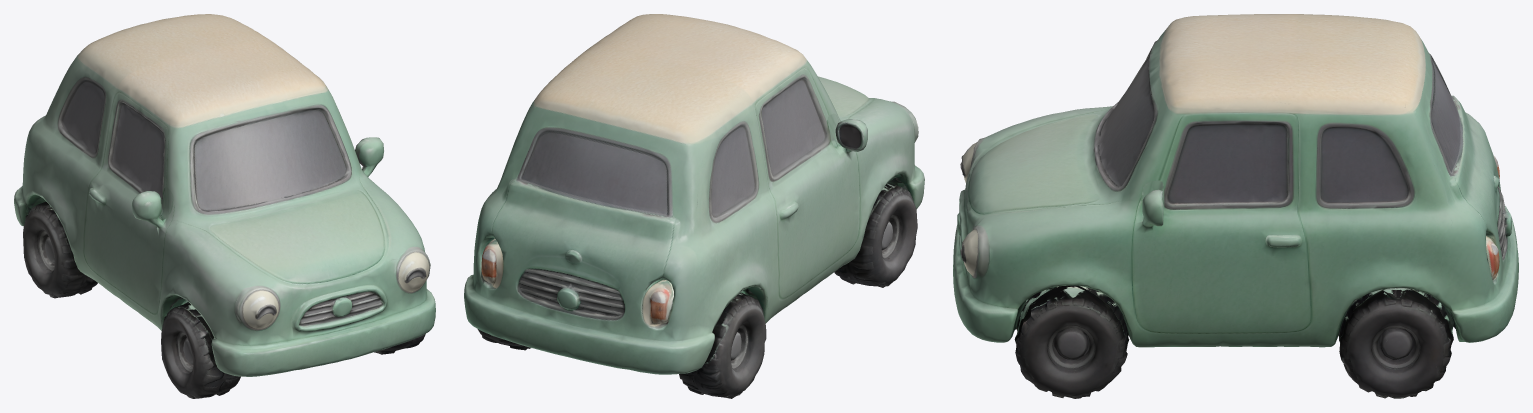
The model's file is Car_Hatch.fbx.
The picture shows the model from 3 angles, left to right: view 1: azimuth 30°, elevation 25°; view 2: azimuth 150°, elevation 25°; view 3: azimuth 270°, elevation 25°; orthographic projection. The views are drawn at different scales.
Visible parts, largest first — view 1: texture_mapping; view 2: texture_mapping; view 3: texture_mapping.
Boxes of the visible parts, x1,y1,x2,y2 form: texture_mapping: (14, 14, 435, 398); texture_mapping: (464, 14, 924, 398); texture_mapping: (953, 14, 1518, 398).
Bounding box in the file's own units: 0.597 × 1 × 0.5713.
1 material, 1 textured.
